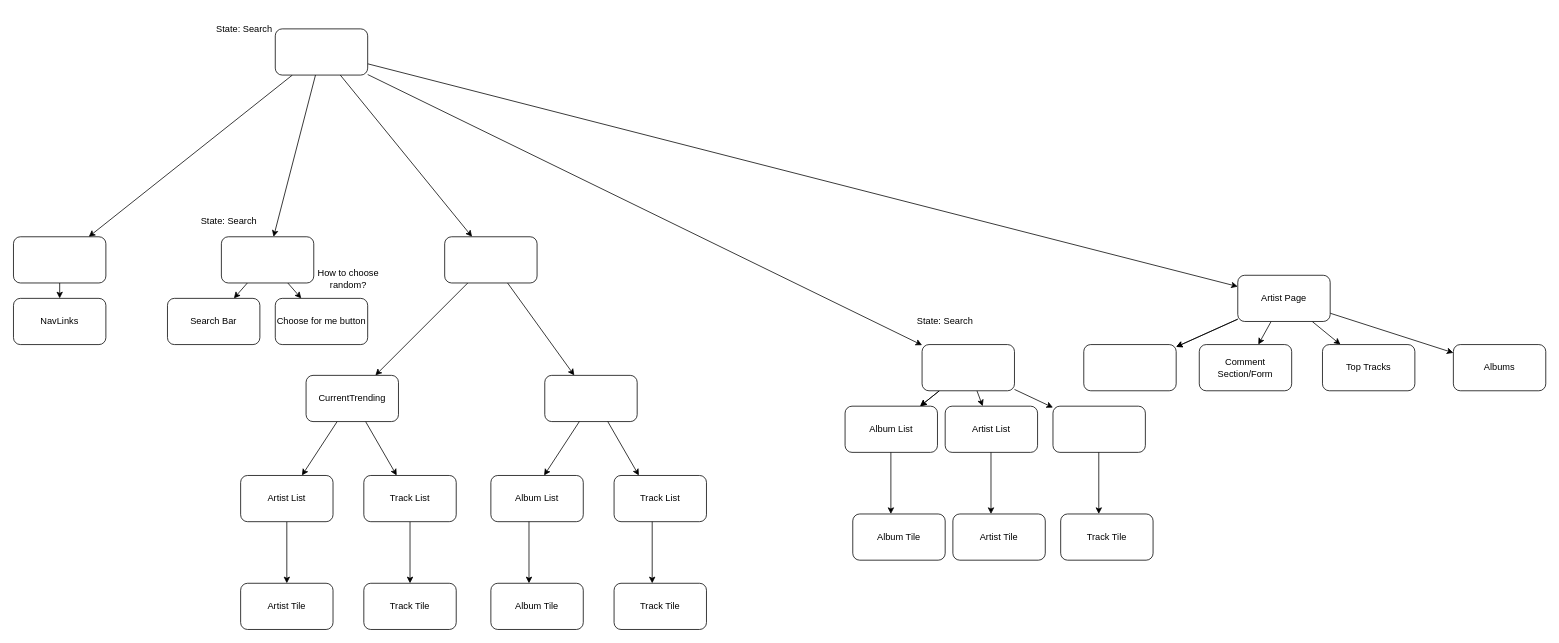
The diagram is 1559 pixels wide and 643 high, and some of its shapes have lost their labels. Here are the shapes that lost their labels. From the top down, the box of each, then its label:
(275, 28, 368, 75): App
(13, 236, 106, 283): NavBar
(221, 236, 314, 283): HomePage
(444, 236, 537, 283): DiscoverPage
(921, 344, 1014, 391): SearchResults
(1083, 344, 1176, 391): Description
(544, 375, 637, 422): Most Loved Albums
(1052, 405, 1145, 452): Song List
